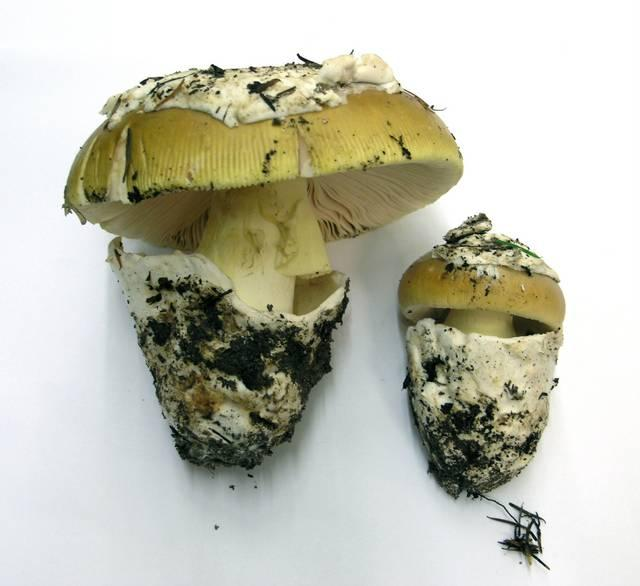edible_mushroom: (61, 48, 464, 471), (396, 211, 566, 500)
